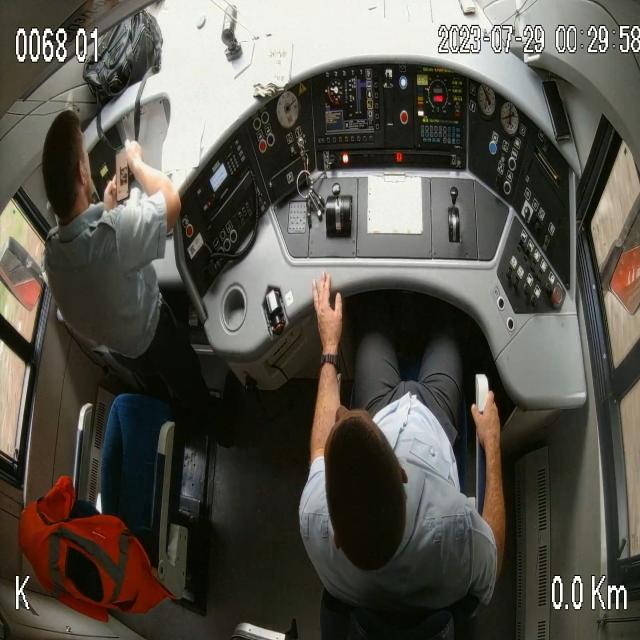smartphone: (111, 138, 136, 208)
